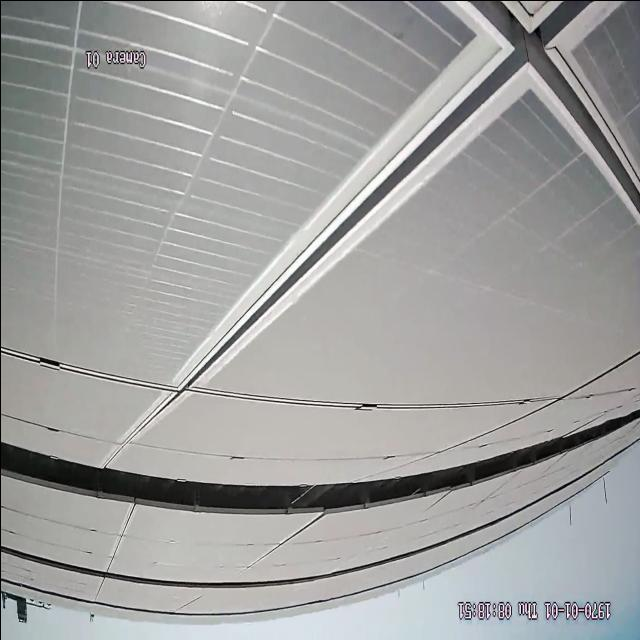interior panel: (13, 4, 640, 461), (239, 518, 319, 569), (105, 508, 133, 568)
outher panel: (1, 409, 637, 511)
